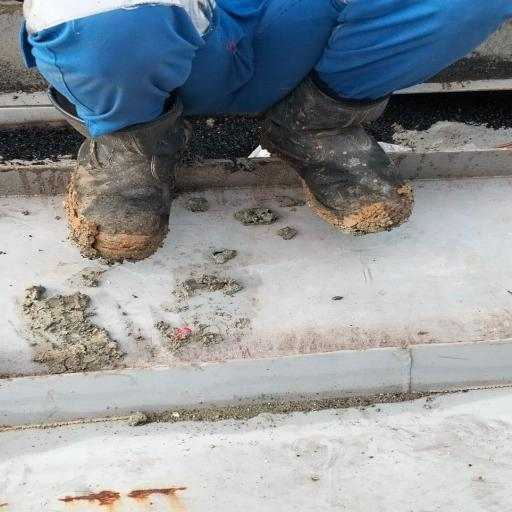safety_shoe: (44, 98, 194, 264), (256, 88, 426, 234)
